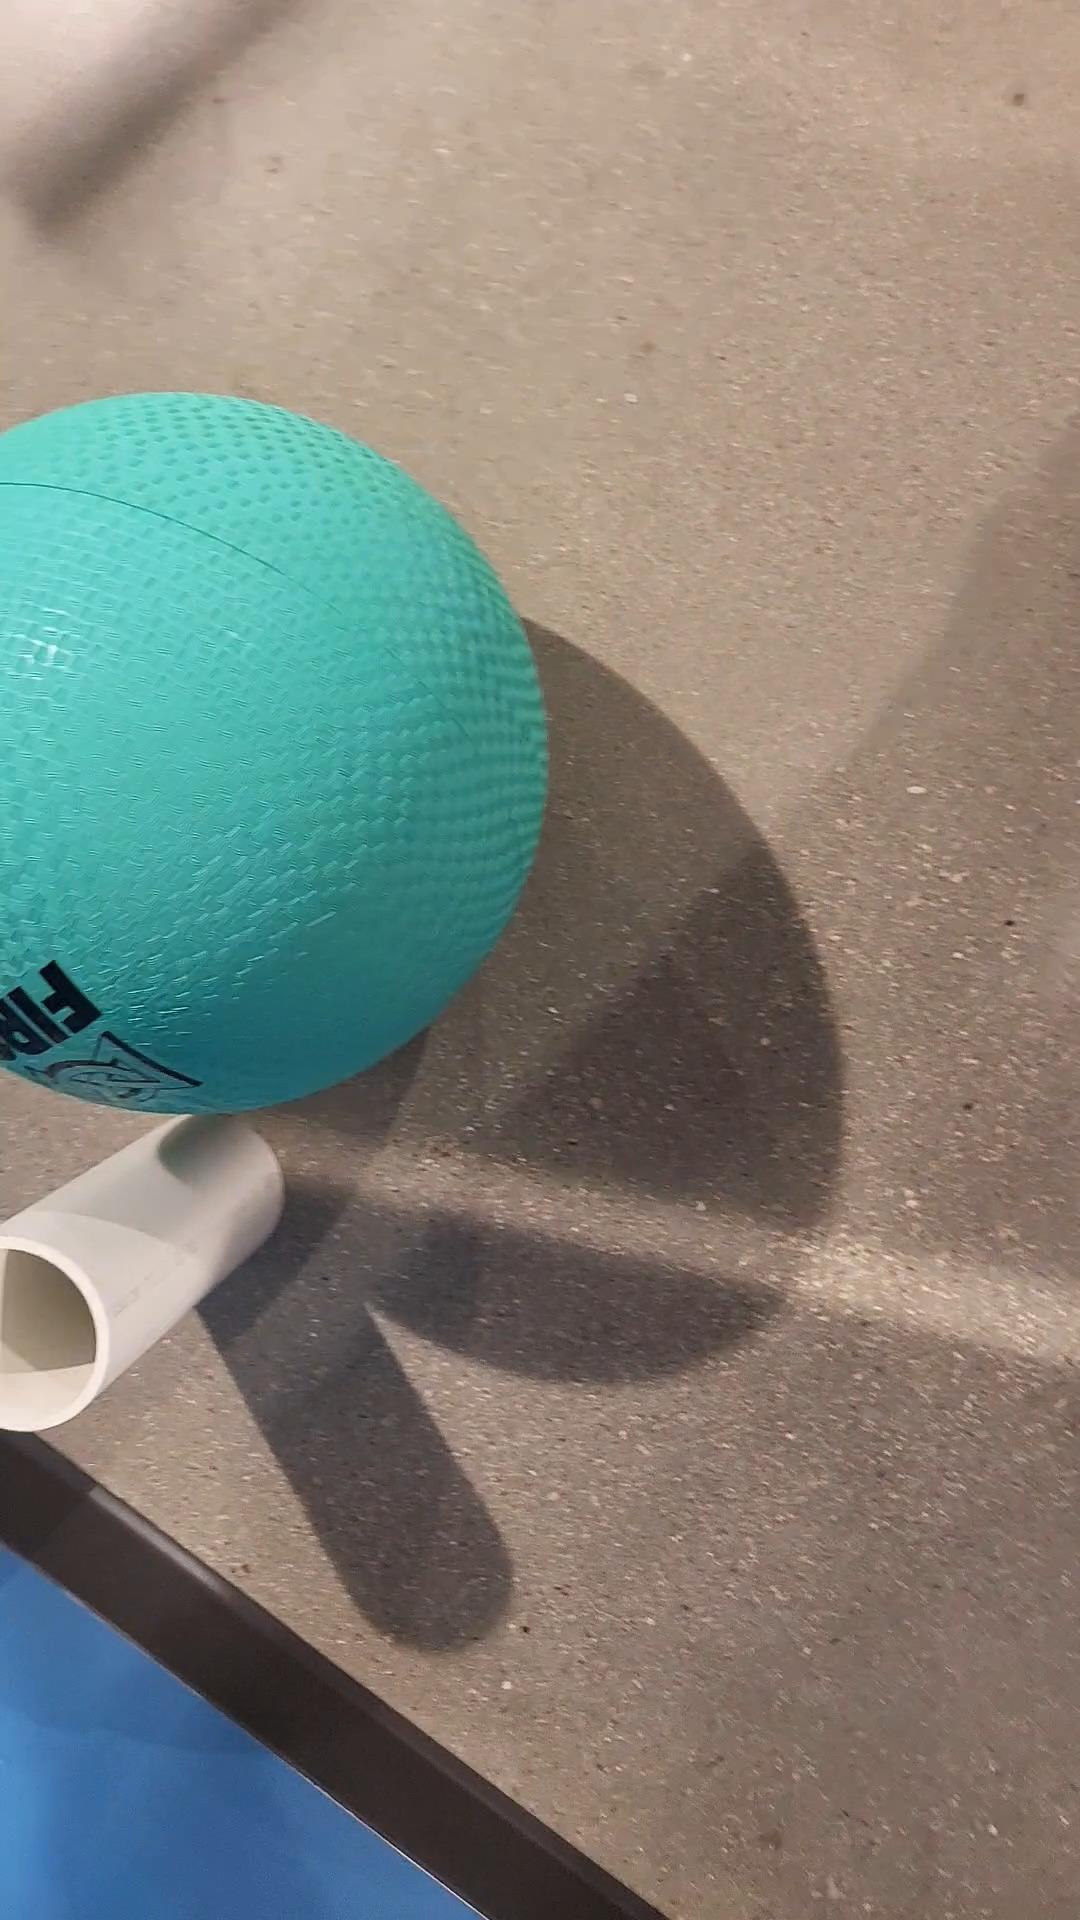algae: (0, 388, 542, 1117)
coral: (0, 1116, 280, 1432)
